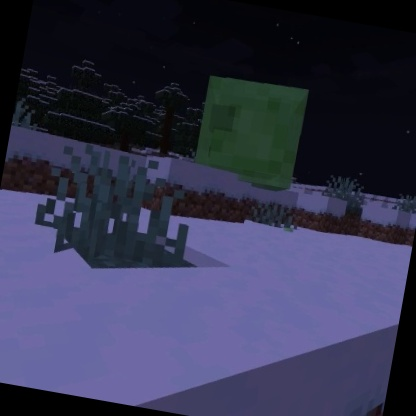slime: (187, 67, 317, 197)
